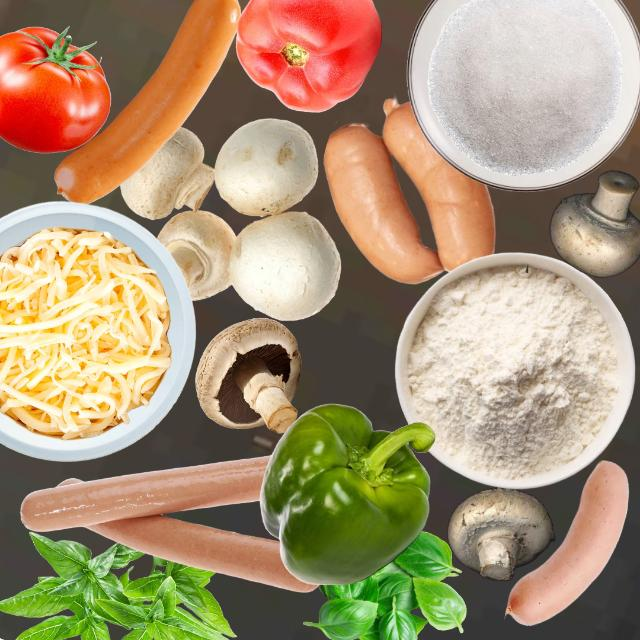Flour: (405, 264, 619, 479)
Sugar: (426, 0, 622, 175)
